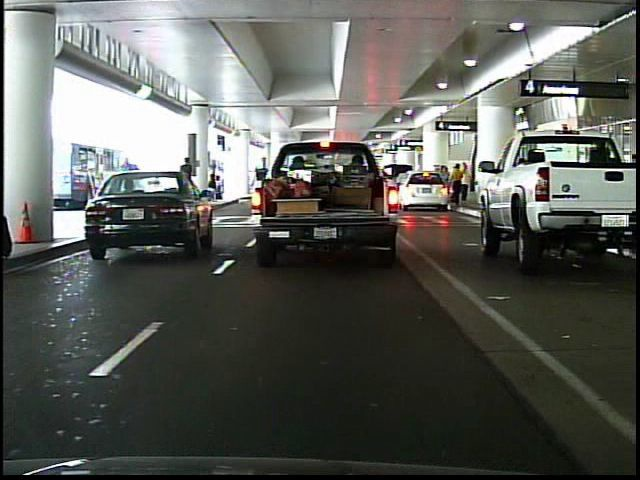person: (176, 154, 200, 212)
